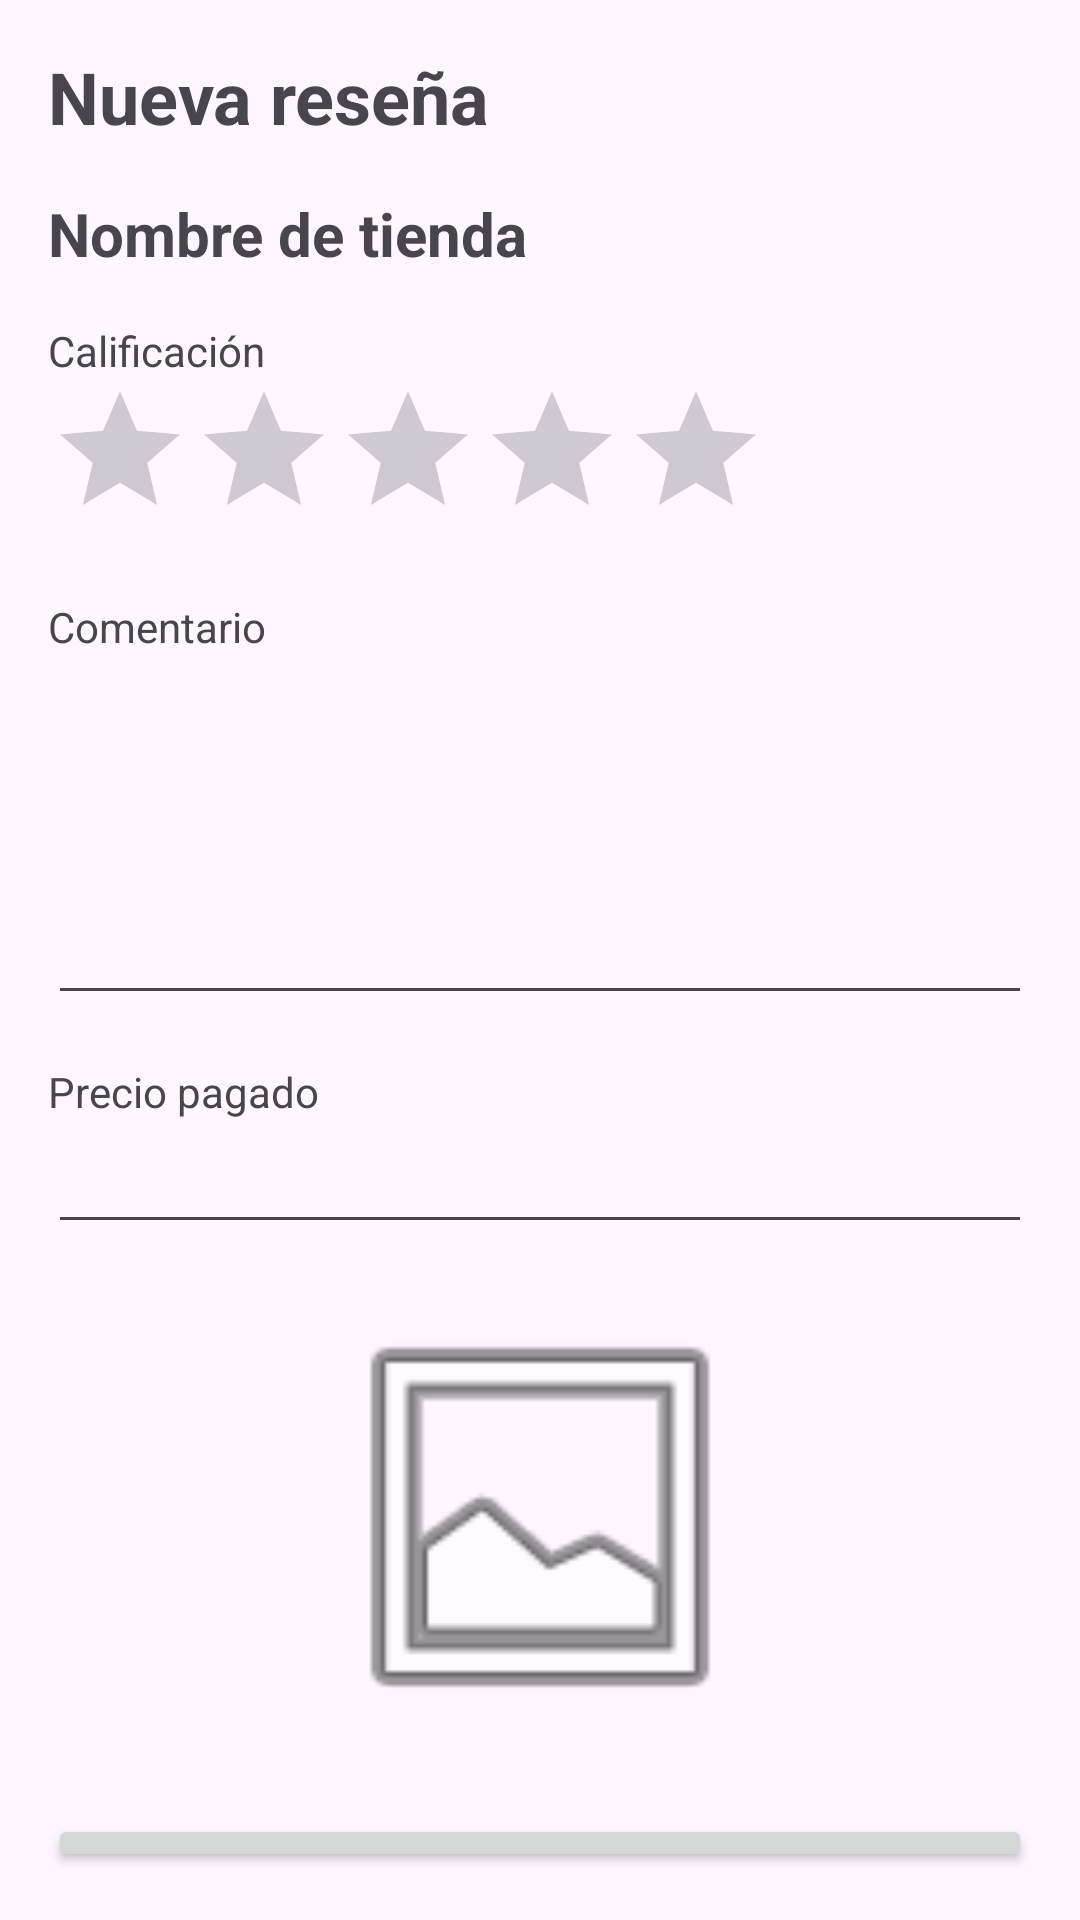

Icons on this 1080 × 1920 Android screen, each with the point to tap as [x,y]:
gallery: [540,1517]
